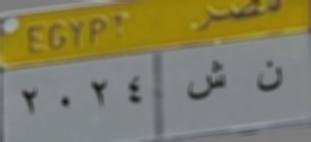0: (55, 90, 73, 118)
2: (15, 83, 45, 123), (90, 70, 110, 112)
4: (126, 72, 147, 109)
noon: (252, 53, 283, 99)
sheen: (186, 58, 228, 105)
